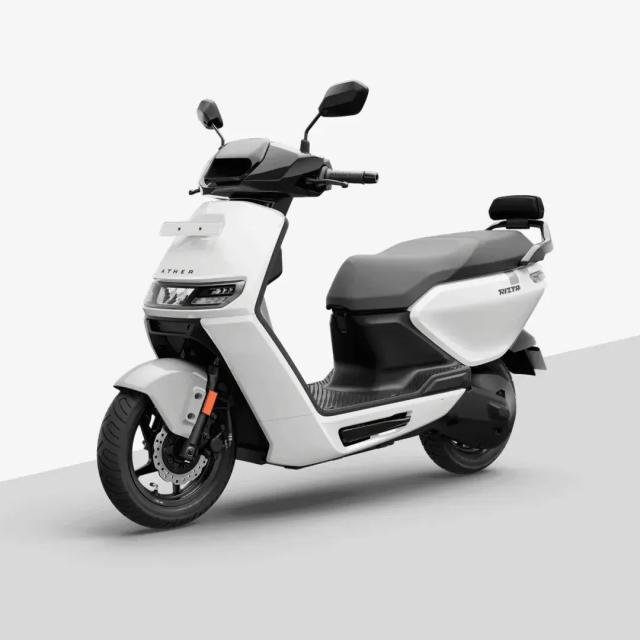objects: (54, 68, 580, 536)
